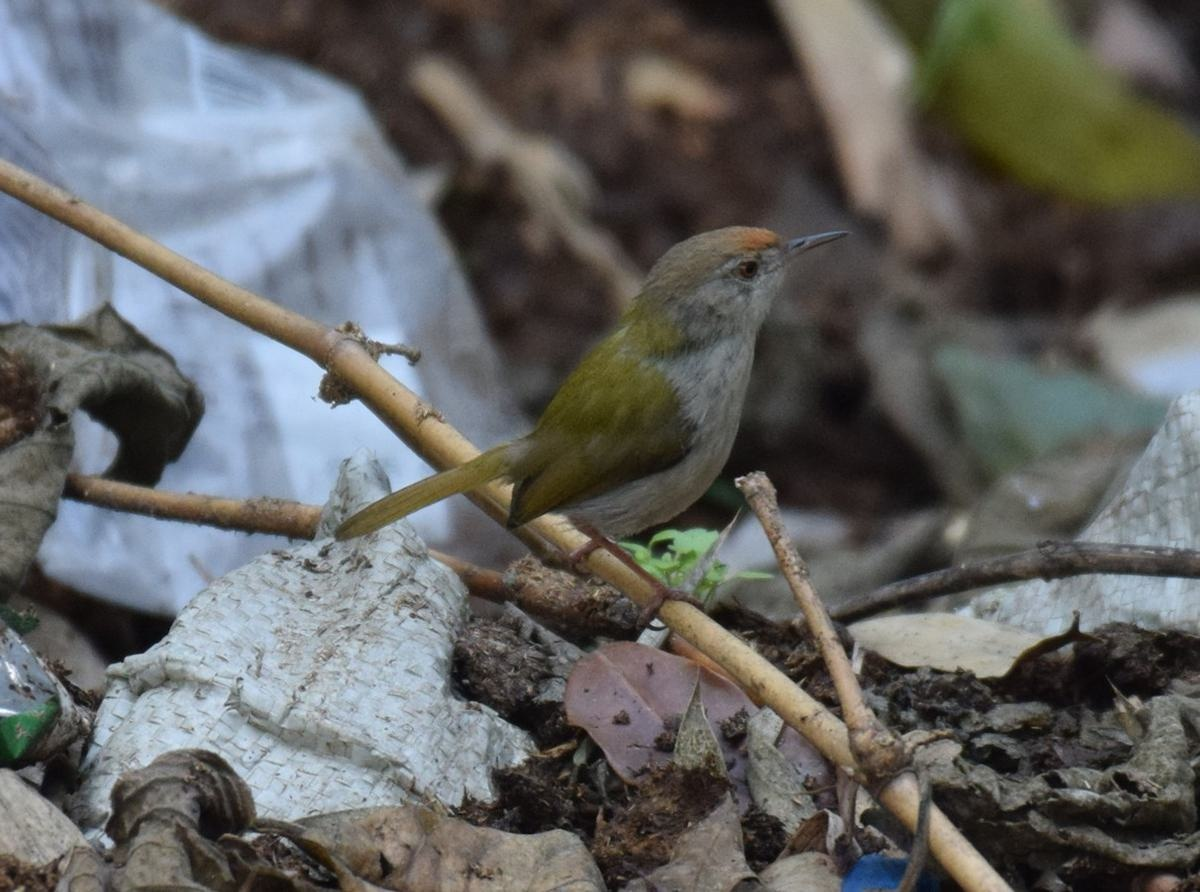tailorbird: (347, 156, 868, 591)
